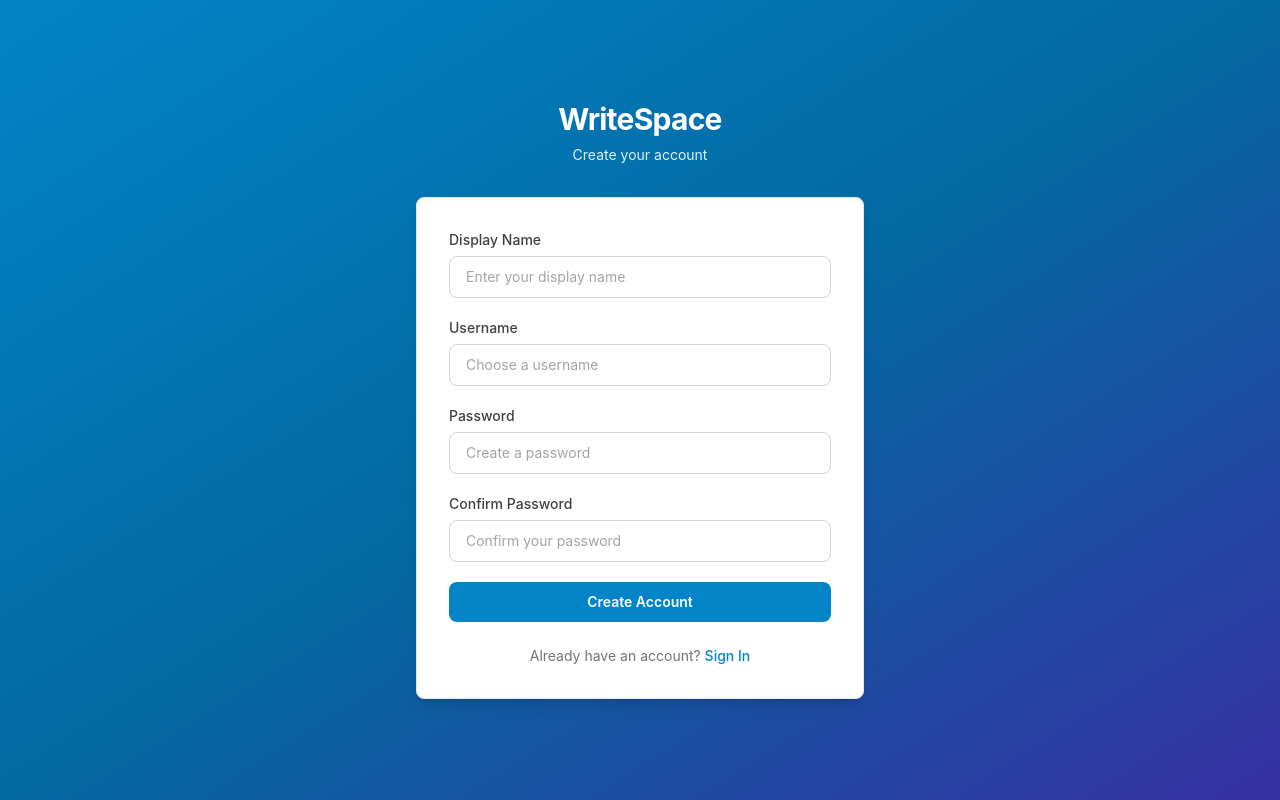
Test: RegisterPage › form validation › shows error when all fields are empty
The image size is (1280, 800).
Click the button "Create Account".
click(640, 602)  # box [449,582,831,622]
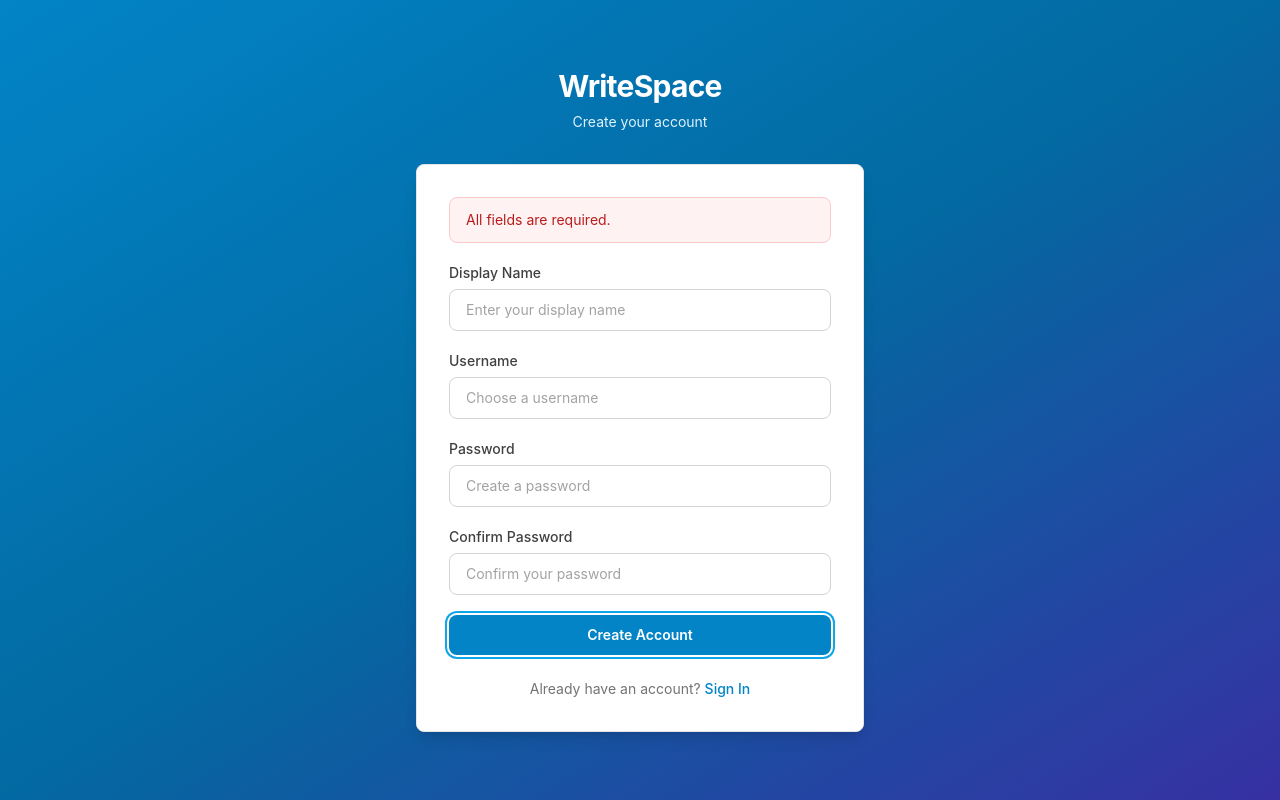
Expected: the text "All fields are required." is shown, [449,197,831,243]
